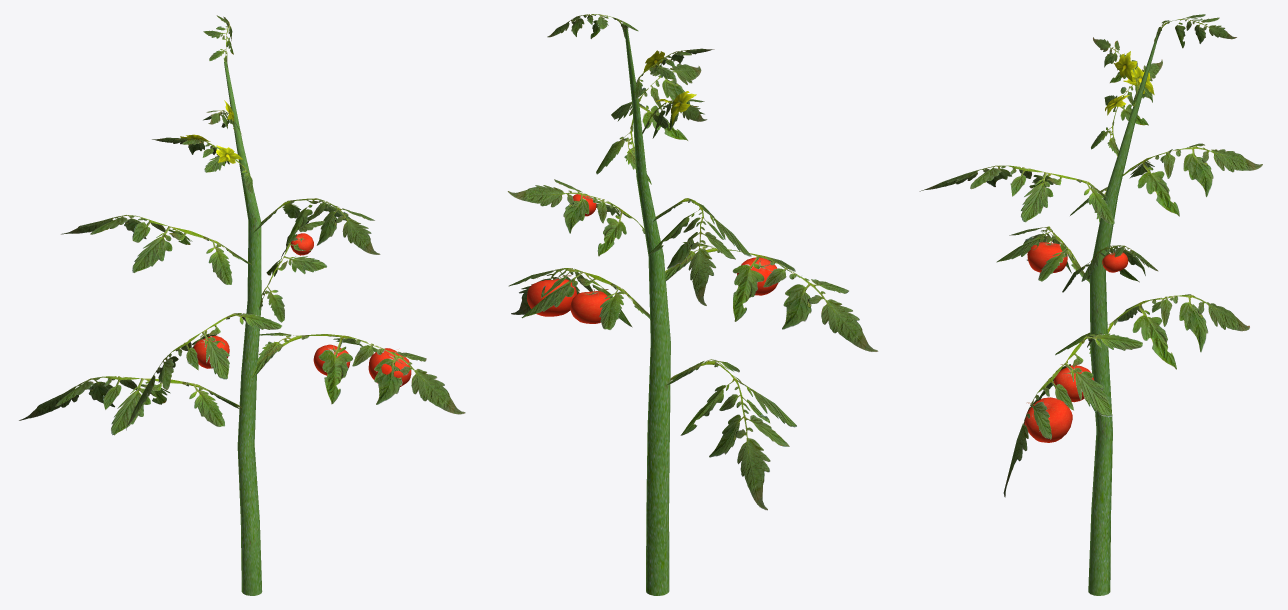
File: tomato-plant.obj
3 views of the same model, side by side, from view 1: azimuth 30°, elevation 25°; view 2: azimuth 150°, elevation 25°; view 3: azimuth 270°, elevation 25° (orthographic). The views are drawn at different scales.
Visible parts, largest first — view 1: LOD0_Plant LOD_0; view 2: LOD0_Plant LOD_0; view 3: LOD0_Plant LOD_0.
Boxes of the visible parts, x1,y1,x2,y2 form: LOD0_Plant LOD_0: (19,15,465,595); LOD0_Plant LOD_0: (507,14,878,595); LOD0_Plant LOD_0: (919,14,1262,595).
Bounding box in the file's own units: 208 × 312 × 176.
Materials: 1 (1 with a texture image).
